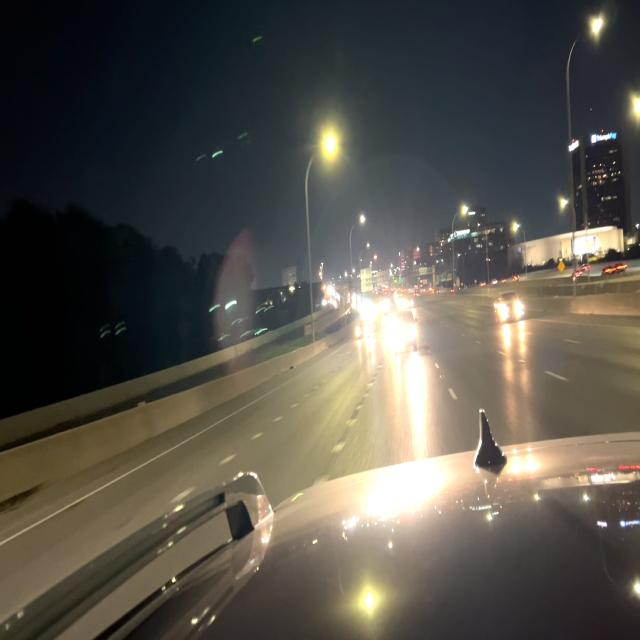back-of-sign: (360, 265, 390, 292)
